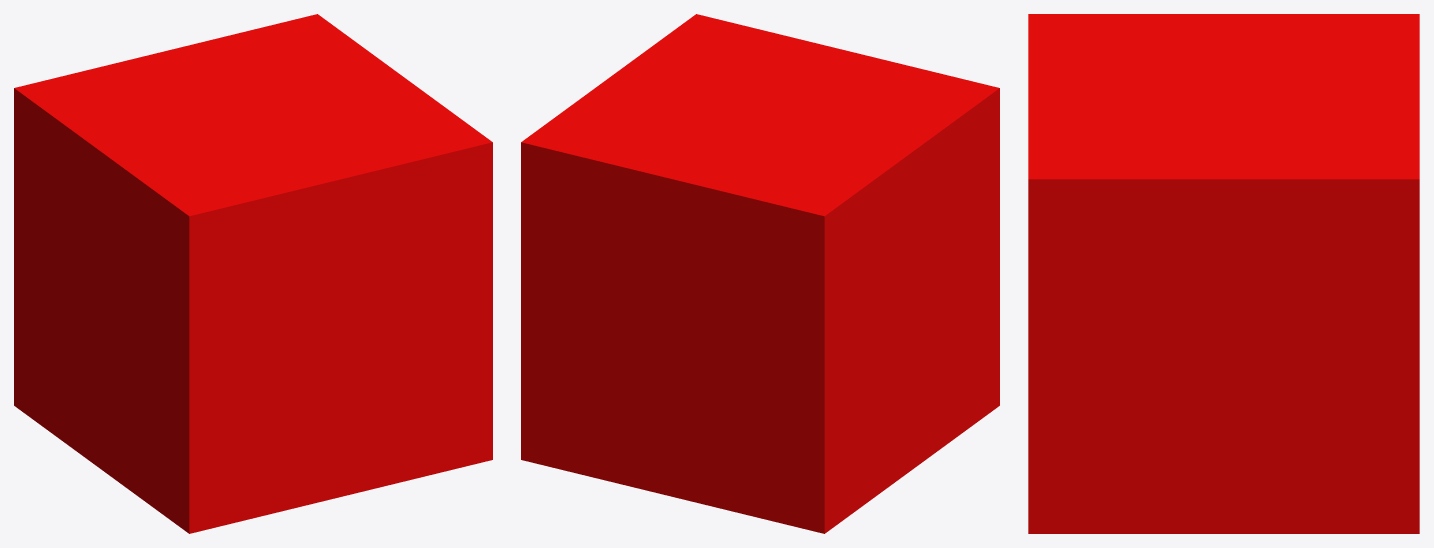
File: Aristas_Cubo.glb
The picture shows the model from 3 angles, left to right: view 1: azimuth 30°, elevation 25°; view 2: azimuth 150°, elevation 25°; view 3: azimuth 270°, elevation 25°; orthographic projection. The views are drawn at different scales.
Visible parts, largest first — view 1: Box002; view 2: Box002; view 3: Box002.
Boxes of the visible parts, x1=… form: Box002: x1=14, y1=14, x2=492, y2=533; Box002: x1=521, y1=14, x2=999, y2=533; Box002: x1=1028, y1=14, x2=1419, y2=533.
Bounding box in the file's own units: 0.508 × 0.508 × 0.508.
